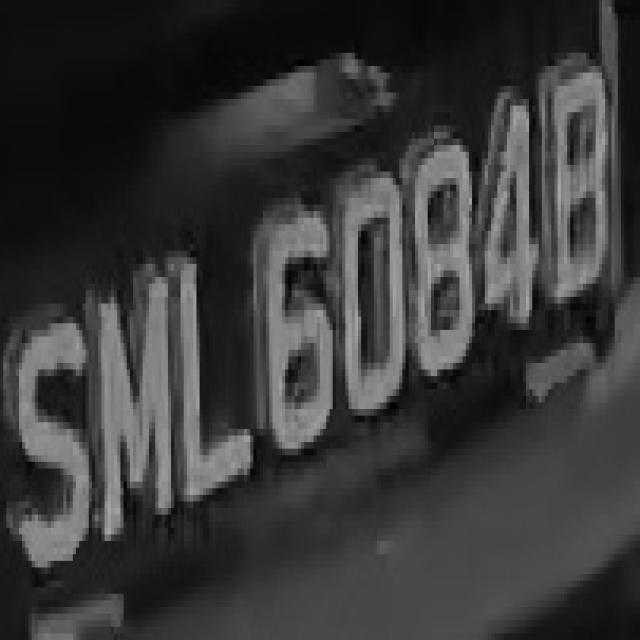0: (336, 152, 415, 435)
4: (466, 72, 542, 363)
6: (253, 192, 336, 468)
8: (396, 125, 475, 402)
B: (548, 46, 612, 317)
L: (168, 231, 250, 501)
M: (82, 244, 174, 541)
S: (3, 290, 89, 588)
